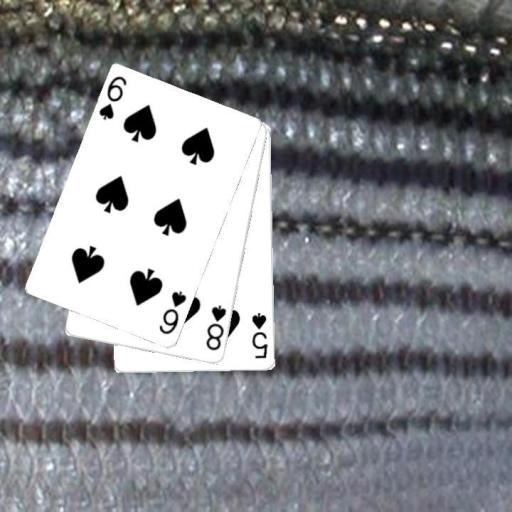5S: (249, 310, 269, 361)
6S: (95, 73, 129, 122), (156, 288, 188, 336)
8S: (203, 302, 228, 353)
